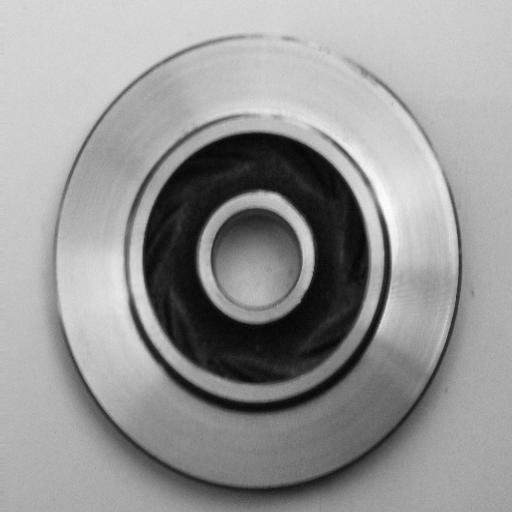scratch: (264, 15, 384, 89), (240, 102, 342, 149)
unpolished_casting: (50, 34, 462, 494)
